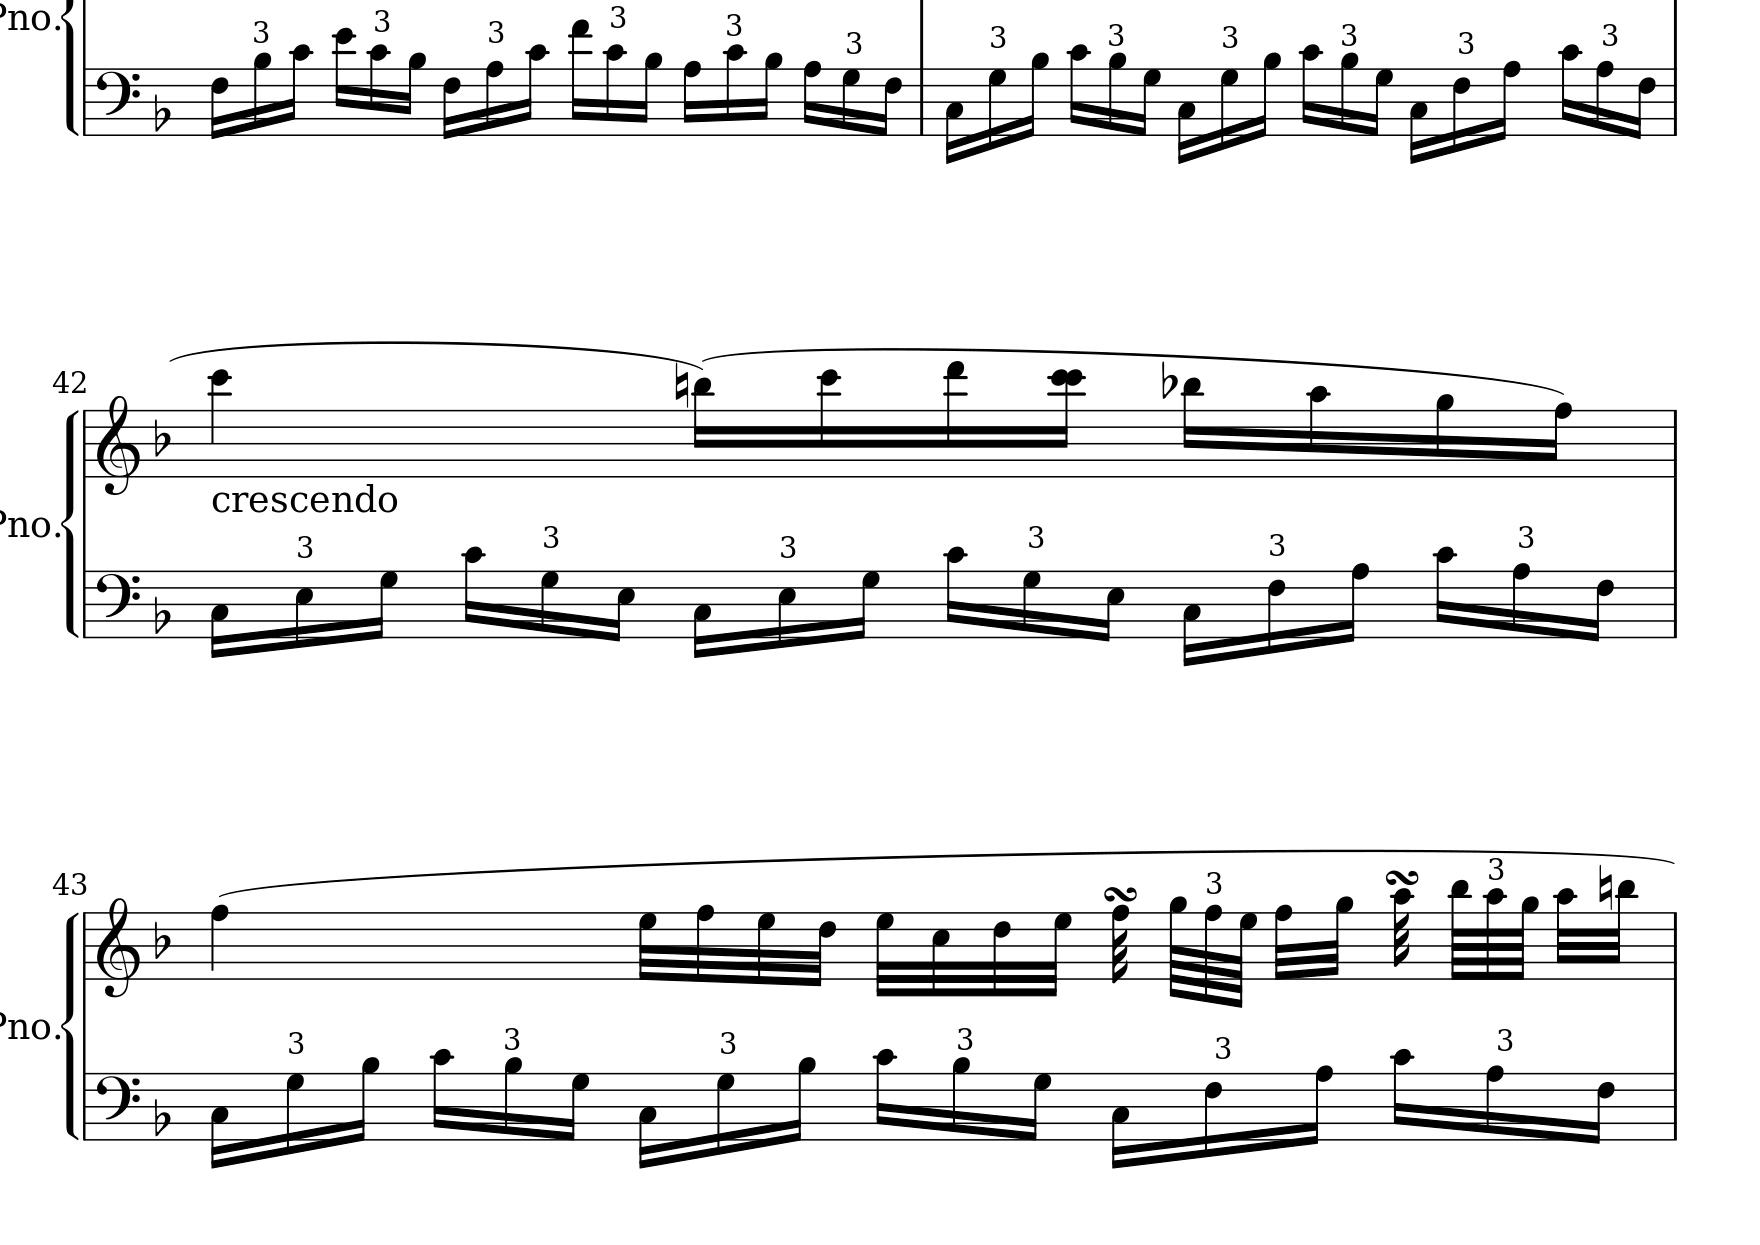16_10: (284, 42, 313, 137), (520, 43, 548, 137), (1066, 42, 1092, 137), (429, 1047, 454, 1141), (602, 42, 627, 137), (722, 42, 747, 137), (367, 42, 391, 136), (1299, 43, 1323, 137), (1558, 43, 1582, 137), (872, 1047, 896, 1141), (943, 544, 966, 640), (1433, 544, 1455, 640), (1389, 1047, 1412, 1143), (461, 544, 484, 639), (1306, 384, 1327, 478)
16_11: (689, 376, 713, 480), (1179, 376, 1203, 480)
16_12: (817, 366, 841, 480), (332, 26, 356, 137)
16_13: (567, 18, 592, 137), (943, 358, 968, 478)
16_3: (208, 1071, 230, 1170), (1181, 569, 1202, 668), (1407, 67, 1428, 164), (1175, 66, 1195, 164), (943, 67, 964, 164), (637, 1073, 658, 1170), (1110, 1073, 1131, 1170), (208, 569, 229, 659), (691, 569, 712, 659)
16_5: (1096, 569, 1125, 644), (606, 569, 635, 643), (292, 569, 315, 649), (775, 569, 796, 649)
16_6: (1588, 1068, 1616, 1145), (1586, 569, 1614, 643), (1631, 65, 1658, 140), (875, 66, 903, 137), (1202, 1070, 1224, 1160), (1451, 65, 1472, 154), (1265, 567, 1286, 656), (208, 65, 229, 140), (441, 66, 461, 140)
16_7: (850, 567, 879, 641), (563, 1070, 592, 1143), (1024, 1070, 1052, 1143), (283, 1068, 306, 1157), (1133, 66, 1162, 137), (371, 569, 398, 641), (1366, 66, 1393, 137), (714, 1068, 736, 1157), (1218, 63, 1238, 154), (985, 63, 1005, 152), (536, 566, 559, 640), (1019, 566, 1040, 640), (840, 65, 860, 137)
16_8: (1340, 561, 1369, 645), (1492, 59, 1521, 143), (1302, 1063, 1331, 1147), (1544, 400, 1571, 478), (482, 58, 504, 137), (681, 58, 702, 137), (800, 58, 822, 137), (1593, 59, 1614, 137), (1509, 559, 1530, 640), (1484, 1062, 1503, 1143)
16_9: (786, 1055, 817, 1143), (350, 1054, 380, 1144), (1022, 50, 1048, 139), (1255, 50, 1282, 139), (636, 50, 662, 137), (756, 50, 782, 137), (400, 50, 425, 137), (1105, 49, 1127, 137), (251, 49, 271, 137), (1338, 50, 1358, 137), (1433, 391, 1453, 478), (503, 1054, 523, 1141), (950, 1054, 970, 1141)
2: (69, 368, 88, 395)
3: (1485, 856, 1507, 883), (608, 3, 627, 31), (1203, 870, 1224, 896), (372, 7, 391, 34), (724, 11, 743, 38), (486, 18, 505, 44), (1106, 22, 1125, 49), (1340, 22, 1358, 49), (1457, 30, 1476, 57), (778, 534, 796, 561), (542, 523, 561, 548), (503, 1025, 522, 1051), (955, 1025, 974, 1051), (252, 18, 270, 44), (1601, 22, 1618, 49), (989, 23, 1007, 50), (845, 30, 862, 57), (296, 534, 314, 561), (1214, 1033, 1232, 1060), (71, 869, 88, 897), (1027, 523, 1044, 548), (1517, 523, 1535, 548), (287, 1029, 305, 1055), (1221, 24, 1238, 49), (1268, 532, 1286, 556), (1496, 1027, 1513, 1051), (720, 1029, 736, 1055)
32_10: (1552, 884, 1577, 980), (1389, 885, 1414, 978)
32_11: (1606, 876, 1636, 984)
32_5: (930, 909, 951, 997)
32_6: (810, 909, 837, 988), (991, 909, 1012, 998)
32_7: (1042, 909, 1071, 997), (875, 909, 895, 998), (755, 908, 776, 985), (637, 909, 658, 982)
32_8: (1110, 904, 1131, 986), (695, 903, 716, 984), (1274, 901, 1294, 981)
32_9: (1323, 893, 1354, 981)
4: (53, 368, 69, 395), (53, 870, 69, 897)
4_12: (206, 366, 232, 478)
4_8: (208, 901, 230, 981)
64_10: (1482, 883, 1507, 981)
64_11: (1449, 877, 1472, 981)
64_7: (1230, 911, 1257, 1009)
64_8: (1203, 903, 1224, 1007)
64_9: (1513, 893, 1540, 981), (1168, 893, 1189, 1001)
Brace: (61, 406, 80, 639), (61, 911, 80, 1141)
Fclef: (92, 1068, 140, 1141), (92, 567, 140, 639), (92, 65, 139, 137)
Flat: (151, 92, 171, 132), (1158, 358, 1176, 402), (151, 416, 170, 458), (152, 918, 171, 959), (152, 1095, 171, 1137), (152, 593, 171, 633)
Gclef: (94, 393, 142, 496), (94, 893, 140, 998)
Natural: (1596, 861, 1613, 912), (672, 360, 689, 411)
Pno: (1, 1004, 53, 1040), (1, 503, 51, 539), (1, 1, 53, 32)
Single_barline: (1666, 410, 1685, 476), (1666, 67, 1683, 137), (912, 67, 929, 135), (78, 410, 94, 477), (78, 912, 94, 980), (1667, 1073, 1683, 1140), (1667, 571, 1683, 637), (78, 67, 93, 136), (1668, 911, 1683, 980), (78, 1073, 93, 1139), (80, 571, 93, 639)
Slur: (701, 348, 1570, 393), (166, 340, 703, 365)
Turn: (1383, 866, 1420, 887), (1102, 883, 1139, 903)
